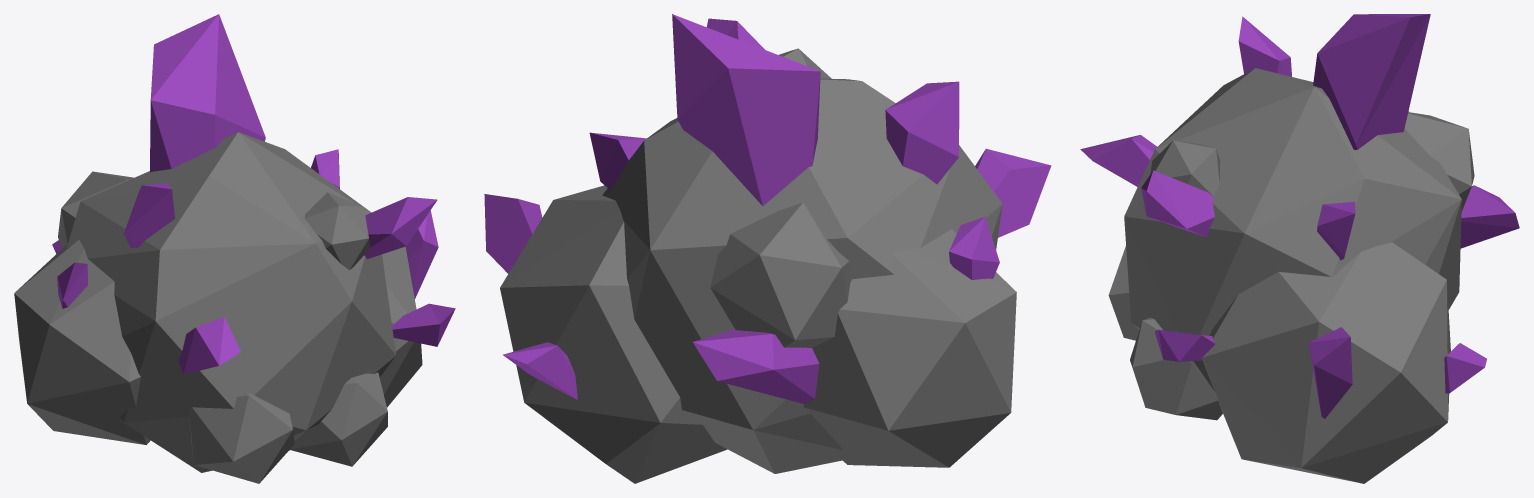
The model's file is CursedOre.fbx.
3 renders of one model, left to right at view 1: azimuth 30°, elevation 25°; view 2: azimuth 150°, elevation 25°; view 3: azimuth 270°, elevation 25°, orthographic. The views are drawn at different scales.
Visible parts, largest first — view 1: CursedOreBase.001; view 2: CursedOreBase.001; view 3: CursedOreBase.001.
Boxes of the visible parts, x1,y1,x2,y2 form: CursedOreBase.001: (14,14,455,483); CursedOreBase.001: (484,14,1051,483); CursedOreBase.001: (1080,14,1519,483).
Bounding box in the file's own units: 2.95 × 2.8 × 2.53.
